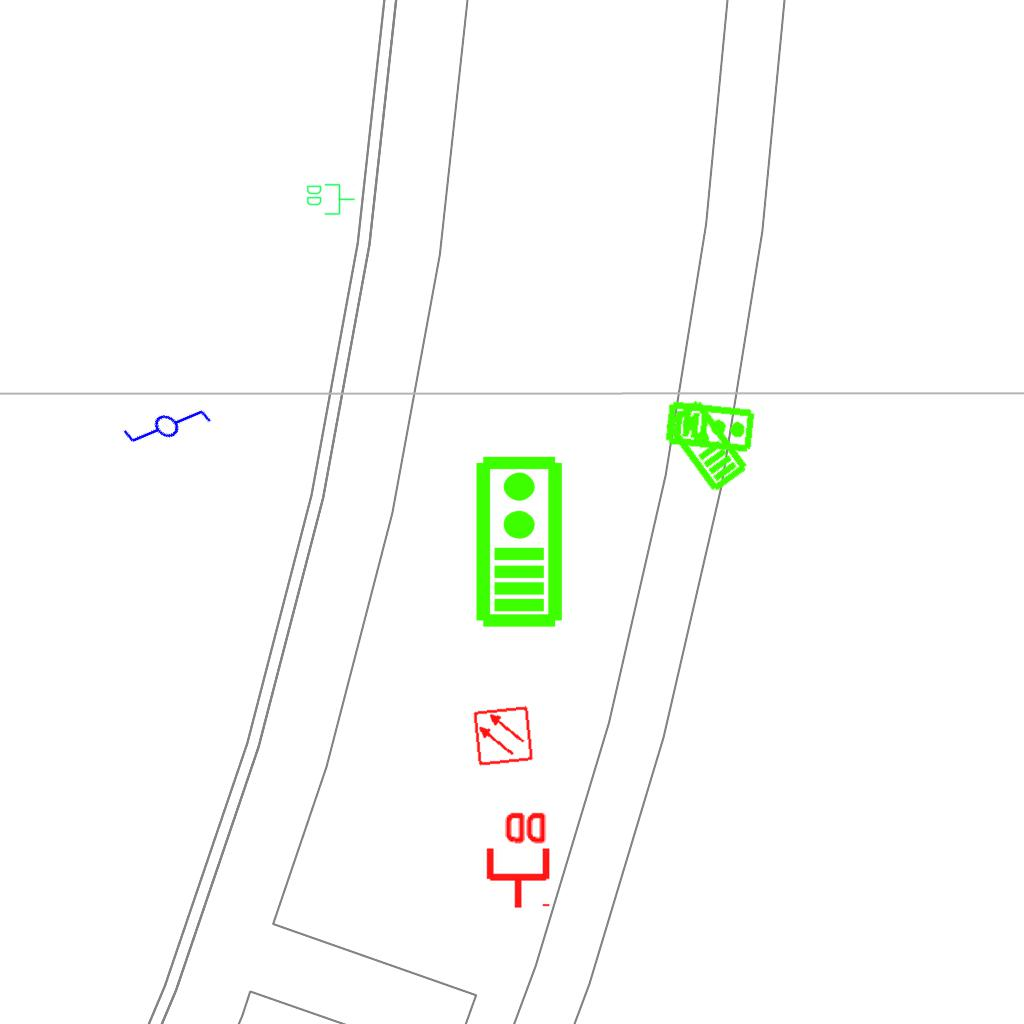Datenanschluss_zweifach: (482, 808, 551, 911), (305, 182, 356, 216)
Gegensprechanlage_mit_Video: (470, 453, 565, 629), (660, 396, 751, 496), (664, 398, 757, 454)
RMO_Rauchmelder_optischer: (472, 705, 534, 767)
Wechselschalter: (111, 371, 217, 475)
